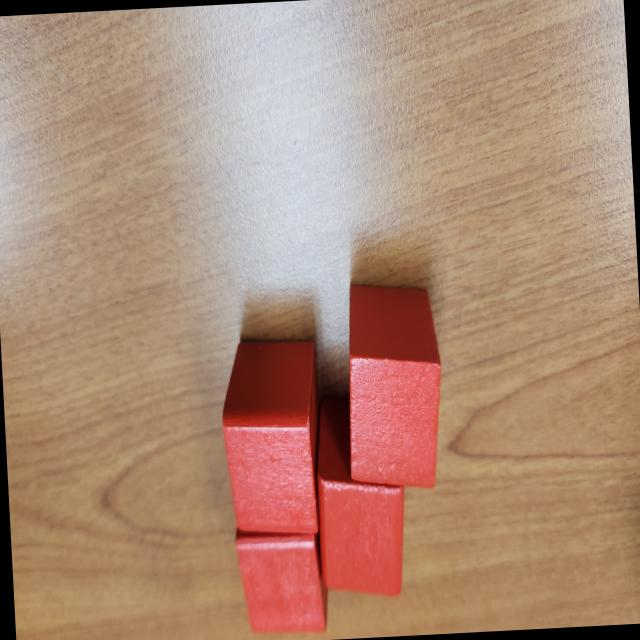red: (216, 338, 328, 542), (342, 279, 448, 493), (310, 394, 410, 608), (233, 519, 331, 640)
